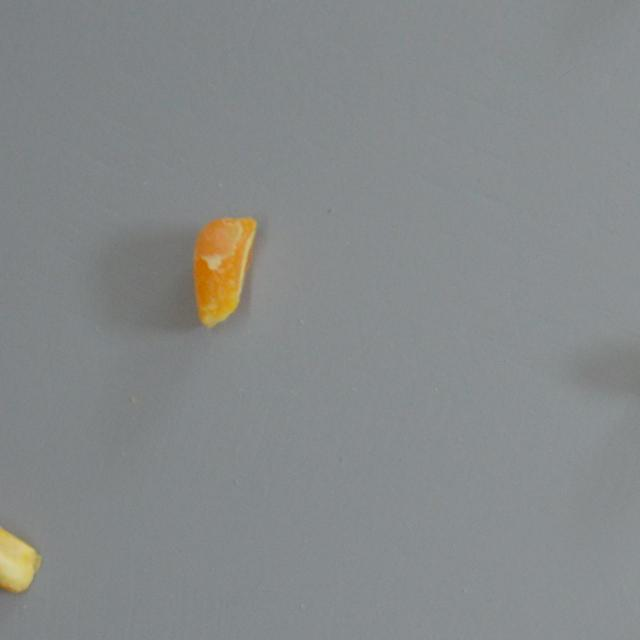pelicula: (190, 212, 258, 328), (0, 524, 39, 600)
